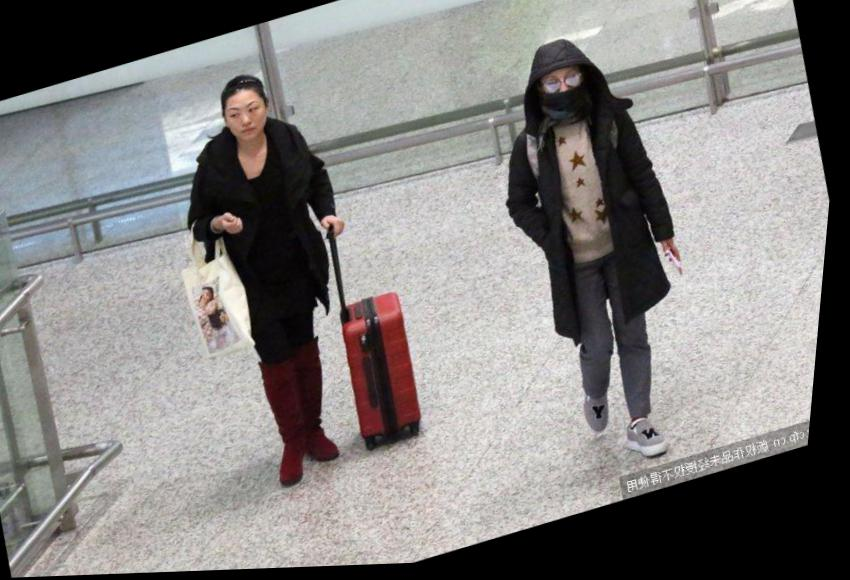NONE: (224, 97, 273, 144)
WRONG: (539, 68, 599, 126)
